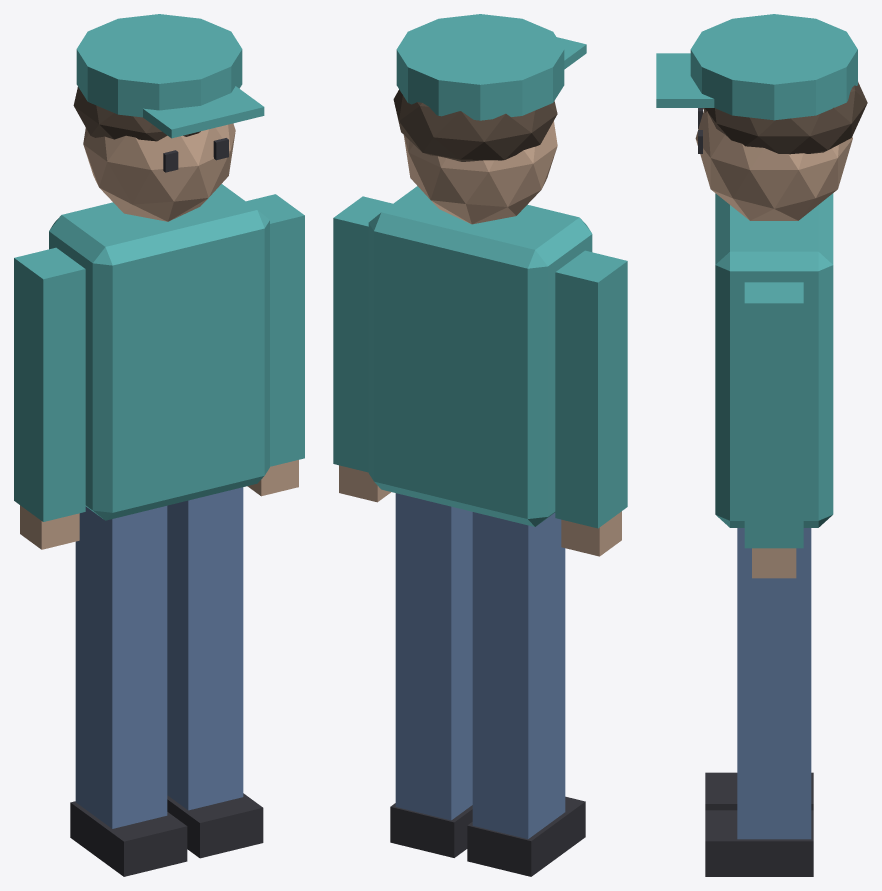
The model's file is sm_customer_cap_neighbour.glb.
The picture shows the model from 3 angles, left to right: view 1: azimuth 30°, elevation 25°; view 2: azimuth 150°, elevation 25°; view 3: azimuth 270°, elevation 25°; orthographic projection.
Visible parts, largest first — view 1: cap_neighbour_body, cap_neighbour_leg, cap_neighbour_leg.001, cap_neighbour_arm, cap_neighbour_cap, cap_neighbour_head, cap_neighbour_arm.001, cap_neighbour_shoe, cap_neighbour_shoe.001, cap_neighbour_visor, cap_neighbour_hair, cap_neighbour_hand (+1 smaller); view 2: cap_neighbour_body, cap_neighbour_leg, cap_neighbour_leg.001, cap_neighbour_arm, cap_neighbour_cap, cap_neighbour_arm.001, cap_neighbour_head, cap_neighbour_hair, cap_neighbour_shoe, cap_neighbour_shoe.001, cap_neighbour_hand, cap_neighbour_hand.001; view 3: cap_neighbour_body, cap_neighbour_leg.001, cap_neighbour_arm.001, cap_neighbour_cap, cap_neighbour_head, cap_neighbour_hair, cap_neighbour_shoe.001, cap_neighbour_visor, cap_neighbour_shoe, cap_neighbour_hand.001.
Part boxes in pixels (x1,y1,x2,y2): cap_neighbour_body: (49, 184, 269, 520); cap_neighbour_leg: (75, 506, 167, 828); cap_neighbour_leg.001: (167, 487, 243, 810); cap_neighbour_arm: (14, 247, 85, 521); cap_neighbour_cap: (76, 14, 242, 117); cap_neighbour_head: (83, 123, 235, 221); cap_neighbour_arm.001: (246, 194, 304, 466); cap_neighbour_shoe: (70, 801, 187, 876); cap_neighbour_shoe.001: (167, 793, 263, 858); cap_neighbour_visor: (143, 86, 264, 138); cap_neighbour_hair: (73, 87, 200, 141); cap_neighbour_hand: (20, 505, 79, 549); cap_neighbour_body: (368, 186, 592, 526); cap_neighbour_leg: (472, 512, 565, 838); cap_neighbour_leg.001: (395, 493, 472, 820); cap_neighbour_arm: (555, 250, 627, 528); cap_neighbour_cap: (396, 14, 564, 120); cap_neighbour_arm.001: (333, 196, 392, 472); cap_neighbour_head: (403, 121, 557, 224); cap_neighbour_hair: (393, 89, 557, 161); cap_neighbour_shoe: (467, 796, 585, 876); cap_neighbour_shoe.001: (390, 803, 472, 857); cap_neighbour_hand: (561, 511, 621, 556); cap_neighbour_hand.001: (339, 465, 391, 502); cap_neighbour_body: (715, 193, 833, 527); cap_neighbour_leg.001: (737, 528, 811, 839); cap_neighbour_arm.001: (744, 282, 803, 548); cap_neighbour_cap: (690, 14, 857, 120); cap_neighbour_head: (695, 111, 852, 220); cap_neighbour_hair: (703, 82, 867, 154); cap_neighbour_shoe.001: (705, 810, 813, 876); cap_neighbour_visor: (656, 53, 714, 107); cap_neighbour_shoe: (705, 772, 813, 810); cap_neighbour_hand.001: (752, 548, 796, 578).
Size of what is drawn, in the model's own units: 0.62 by 1.78 by 0.43.
